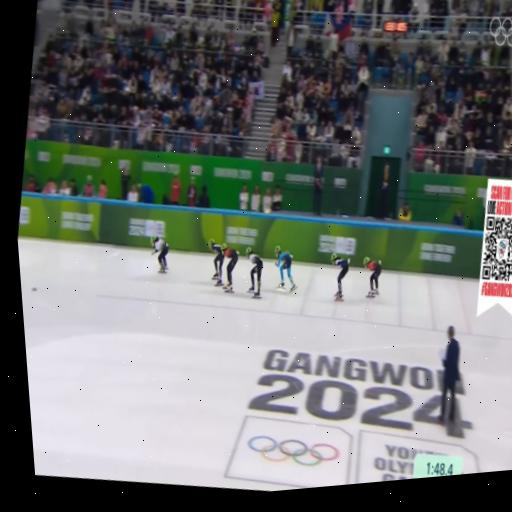Skater: (275, 246, 296, 291), (331, 254, 350, 301), (246, 247, 263, 298), (222, 244, 238, 292), (364, 257, 381, 297), (209, 239, 223, 285), (151, 235, 168, 272)
